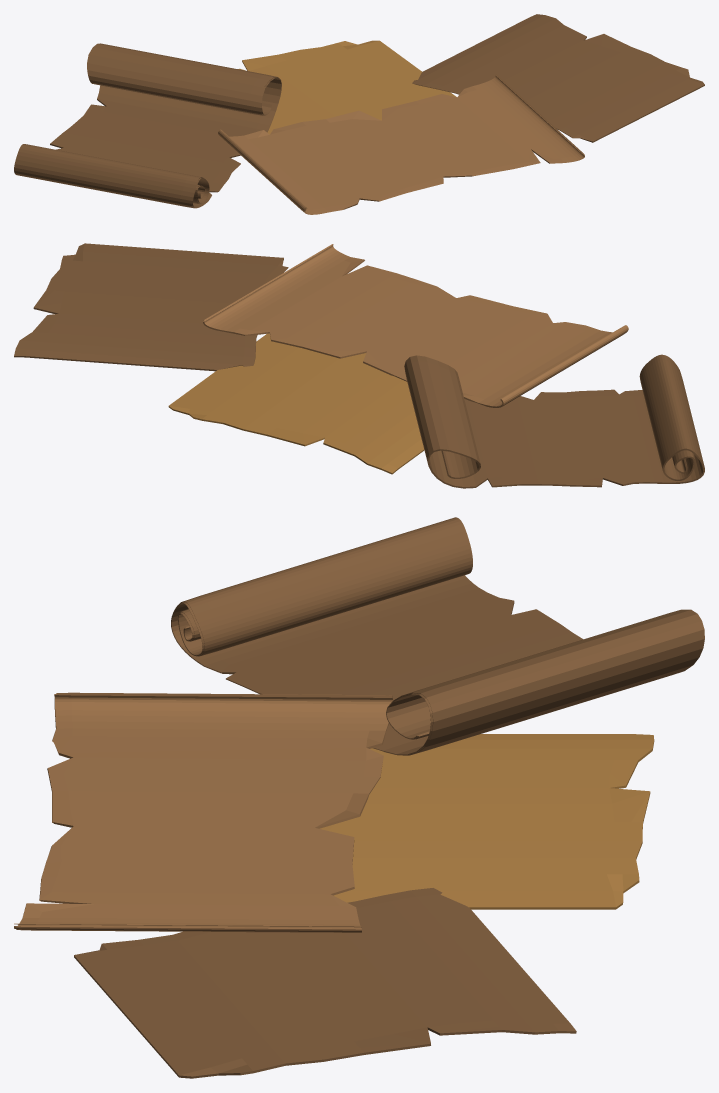
File: PirateMap.fbx
3 renders of one model, top to bottom at view 1: azimuth 30°, elevation 25°; view 2: azimuth 150°, elevation 25°; view 3: azimuth 270°, elevation 25°, orthographic. The views are drawn at different scales.
Parts seen in each view (by area): view 1: BezierCurve, BezierCurve.001, BezierCurve.003, BezierCurve.002; view 2: BezierCurve.001, BezierCurve, BezierCurve.003, BezierCurve.002; view 3: BezierCurve.001, BezierCurve, BezierCurve.003, BezierCurve.002.
Boxes of the visible parts, bbox=[...] form: BezierCurve: bbox=[14, 43, 281, 208]; BezierCurve.001: bbox=[218, 74, 584, 214]; BezierCurve.003: bbox=[412, 14, 704, 142]; BezierCurve.002: bbox=[238, 40, 456, 134]; BezierCurve.001: bbox=[203, 244, 628, 407]; BezierCurve: bbox=[404, 354, 704, 488]; BezierCurve.003: bbox=[14, 243, 288, 371]; BezierCurve.002: bbox=[168, 333, 424, 474]; BezierCurve.001: bbox=[14, 692, 392, 932]; BezierCurve: bbox=[171, 517, 704, 755]; BezierCurve.003: bbox=[74, 888, 576, 1078]; BezierCurve.002: bbox=[319, 734, 654, 909].
Bounding box in the file's own units: 1475 × 106 × 828.
